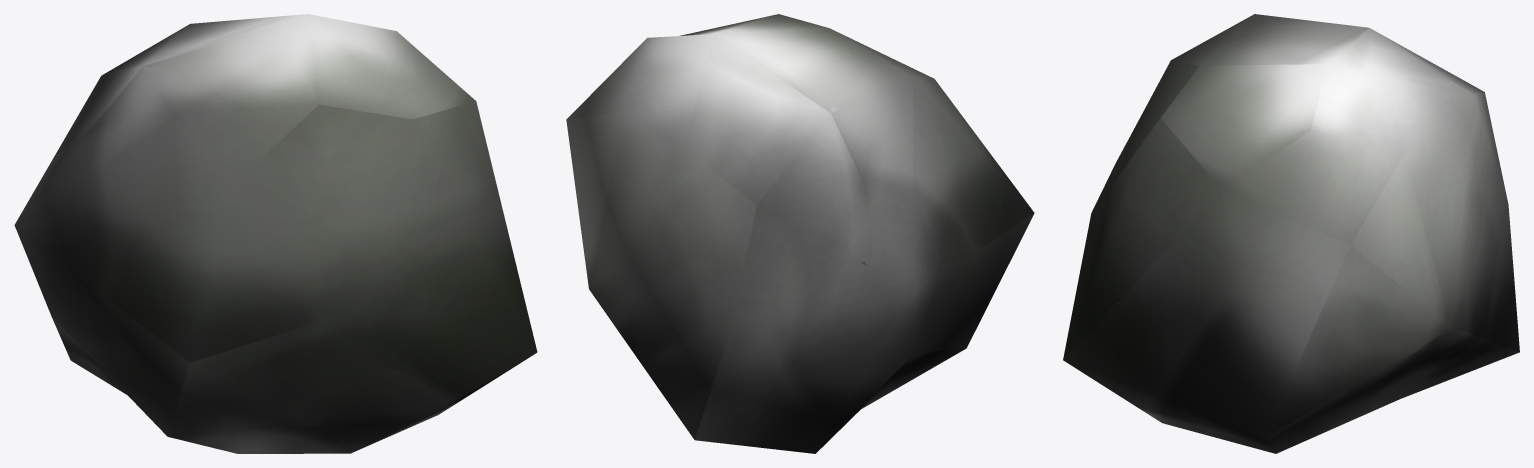
File: rock.dae
3 renders of one model, left to right at view 1: azimuth 30°, elevation 25°; view 2: azimuth 150°, elevation 25°; view 3: azimuth 270°, elevation 25°, orthographic. The views are drawn at different scales.
Visible parts, largest first — view 1: Landscape; view 2: Landscape; view 3: Landscape.
Boxes of the visible parts, left/top/right/bottom form: Landscape: left=14, top=14, right=537, bottom=453; Landscape: left=566, top=14, right=1034, bottom=453; Landscape: left=1063, top=14, right=1519, bottom=453.
Bounding box in the file's own units: 2.65 × 2.6 × 2.29.
Materials: 1 (1 with a texture image).
